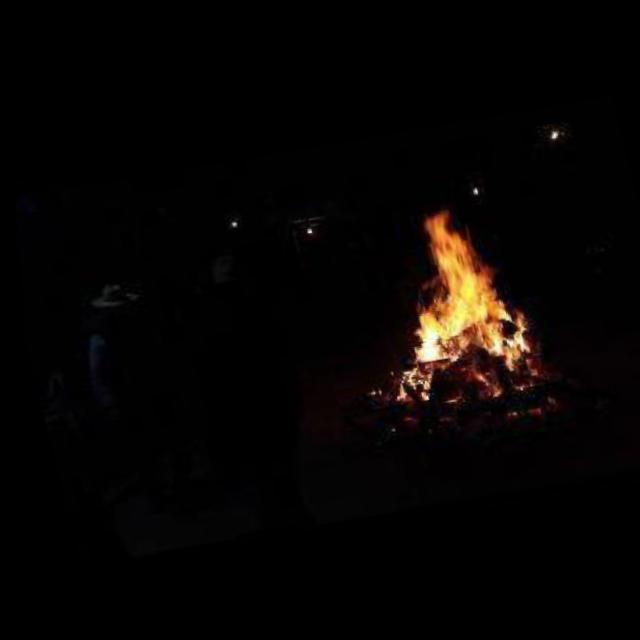fire: (361, 196, 555, 416)
